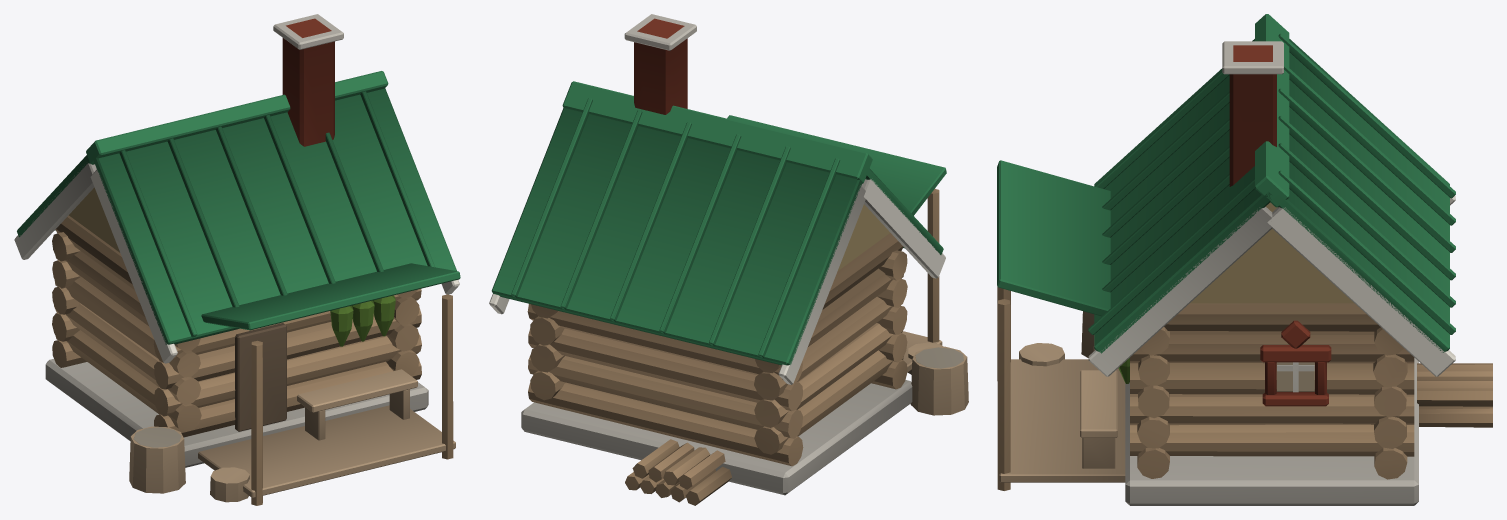
Rendered from bld_banya_e2.glb.
The picture shows the model from 3 angles, left to right: view 1: azimuth 30°, elevation 25°; view 2: azimuth 150°, elevation 25°; view 3: azimuth 270°, elevation 25°; orthographic projection. The views are drawn at different scales.
Visible parts, largest first — view 1: banya; view 2: banya; view 3: banya.
Part boxes in pixels (<box>): banya: <box>14,14,460,505</box>; banya: <box>489,14,968,505</box>; banya: <box>997,14,1492,505</box>.
Bounding box in the file's own units: 0.9 × 0.97 × 1.05.
